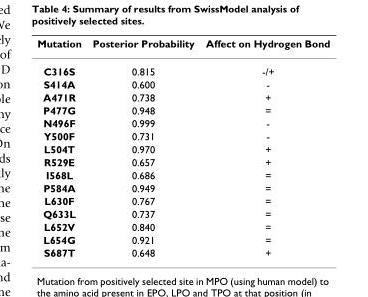table: (36, 36, 329, 258)
table column: (199, 36, 329, 258), (86, 36, 199, 258), (36, 36, 86, 258)
table column header: (36, 36, 329, 56)
table row: (36, 56, 329, 77), (36, 36, 329, 56), (36, 77, 329, 90), (36, 90, 329, 103), (36, 103, 329, 116), (36, 116, 329, 129), (36, 129, 329, 142), (36, 142, 329, 155), (36, 155, 329, 168), (36, 168, 329, 181), (36, 193, 329, 206), (36, 206, 329, 219), (36, 219, 329, 232), (36, 232, 329, 245), (36, 245, 329, 258), (36, 181, 329, 193)
